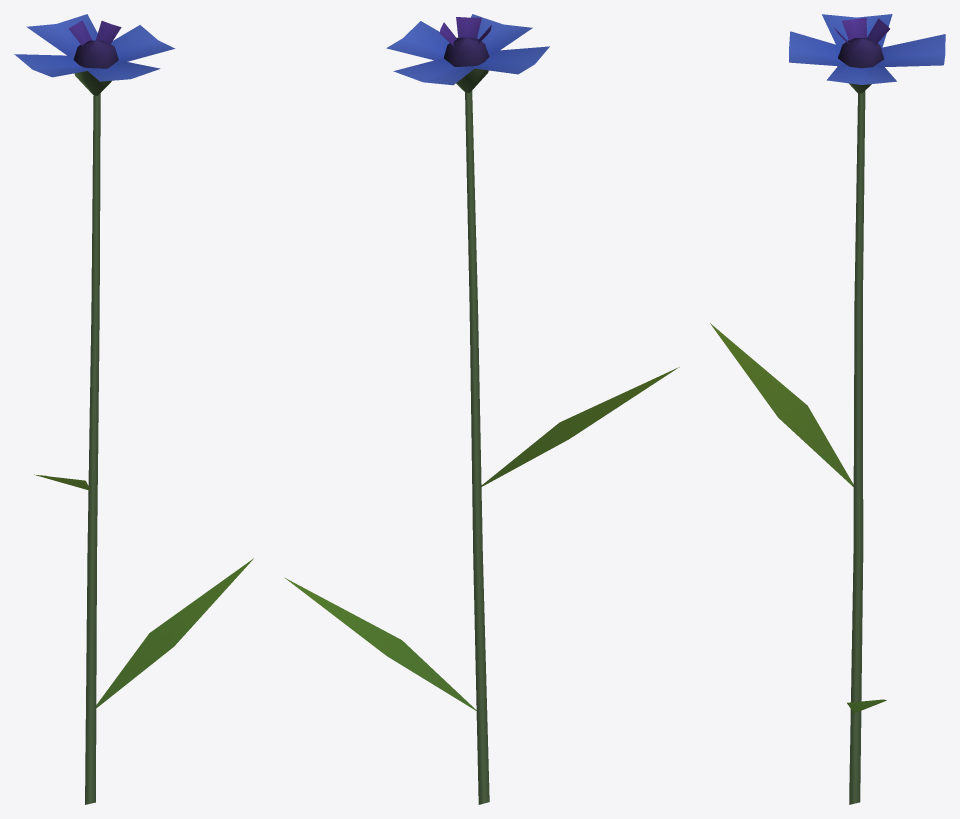
Rendered from flower-cornflower-a.lod1.glb.
3 views of the same model, side by side, from view 1: azimuth 30°, elevation 25°; view 2: azimuth 150°, elevation 25°; view 3: azimuth 270°, elevation 25° (orthographic).
Parts seen in each view (by area): view 1: flower-cornflower-a.lod1; view 2: flower-cornflower-a.lod1; view 3: flower-cornflower-a.lod1.
Boxes of the visible parts, box(x1,y1,x2,y2) form: flower-cornflower-a.lod1: box(14, 14, 253, 804); flower-cornflower-a.lod1: box(284, 14, 679, 804); flower-cornflower-a.lod1: box(710, 14, 945, 804).
Bounding box in the file's own units: 0.137 × 0.327 × 0.0897.
